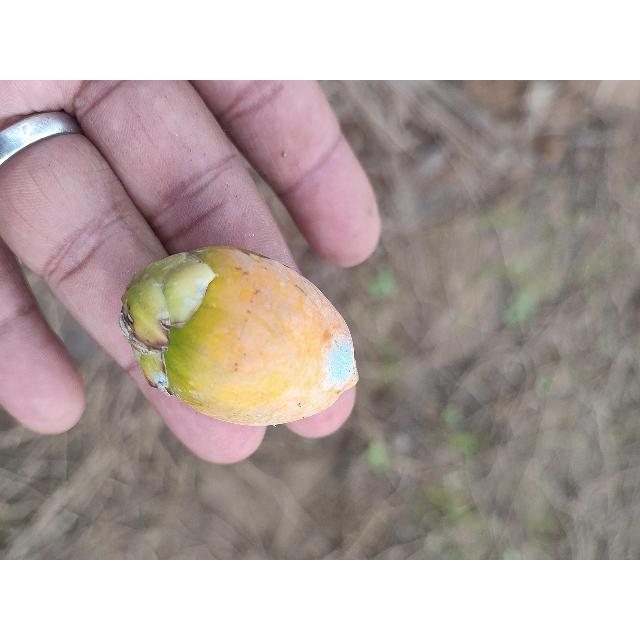good: (118, 247, 359, 427)
